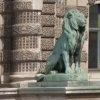Statue: (39, 7, 93, 86)
